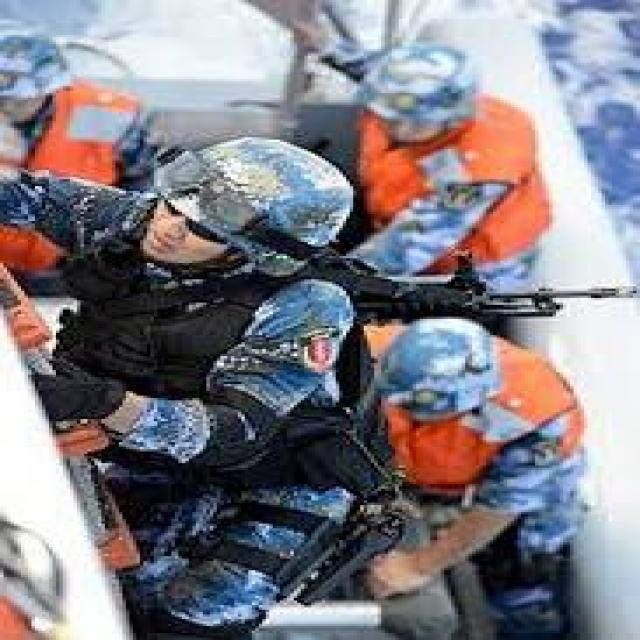Reflective-Jacket: (357, 100, 563, 277), (143, 132, 371, 268), (353, 314, 591, 442)
Safety-Helmet: (136, 128, 368, 270), (329, 35, 507, 135)
